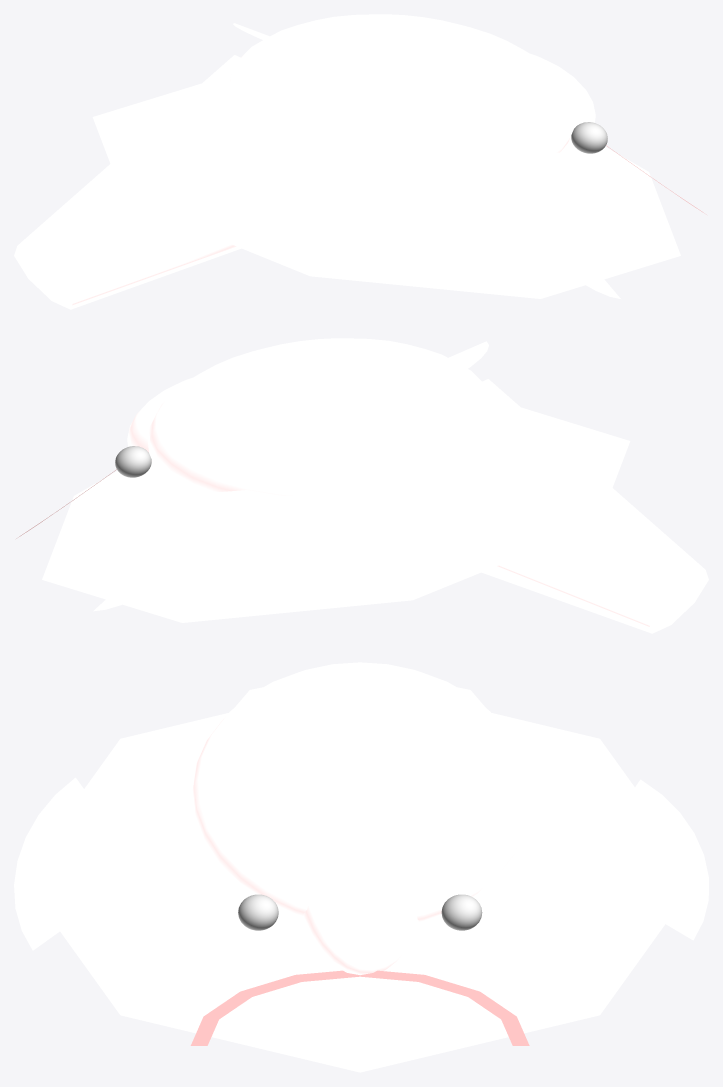
Rendered from blobfish.gltf.
3 views of the same model, one above another, from view 1: azimuth 30°, elevation 25°; view 2: azimuth 150°, elevation 25°; view 3: azimuth 270°, elevation 25° (orthographic). The views are drawn at different scales.
Parts seen in each view (by area): view 1: Cylinder (×2), Sphere (×3), Circle; view 2: Cylinder (×2), Sphere (×3), Circle (×2); view 3: Cylinder, Sphere (×4), Circle (×2), Ring.
Boxes of the visible parts, left/top/right/bottom form: Cylinder (×2): left=14, top=55, right=680, bottom=309; Sphere (×3): left=230, top=14, right=607, bottom=171; Circle: left=495, top=206, right=620, bottom=298; Cylinder (×2): left=42, top=379, right=708, bottom=633; Sphere (×3): left=115, top=338, right=492, bottom=495; Circle (×2): left=93, top=341, right=488, bottom=611; Cylinder: left=60, top=713, right=665, bottom=1072; Sphere (×4): left=190, top=662, right=529, bottom=976; Circle (×2): left=14, top=777, right=708, bottom=950; Ring: left=190, top=970, right=529, bottom=1045.
Bounding box in the file's own units: 2.3 × 0.7249 × 2.05.
